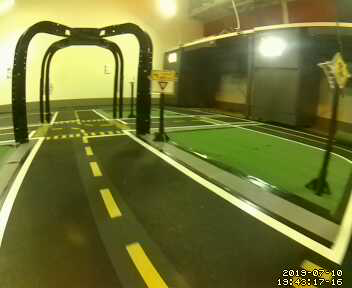Turn Yield: (151, 70, 179, 96)
